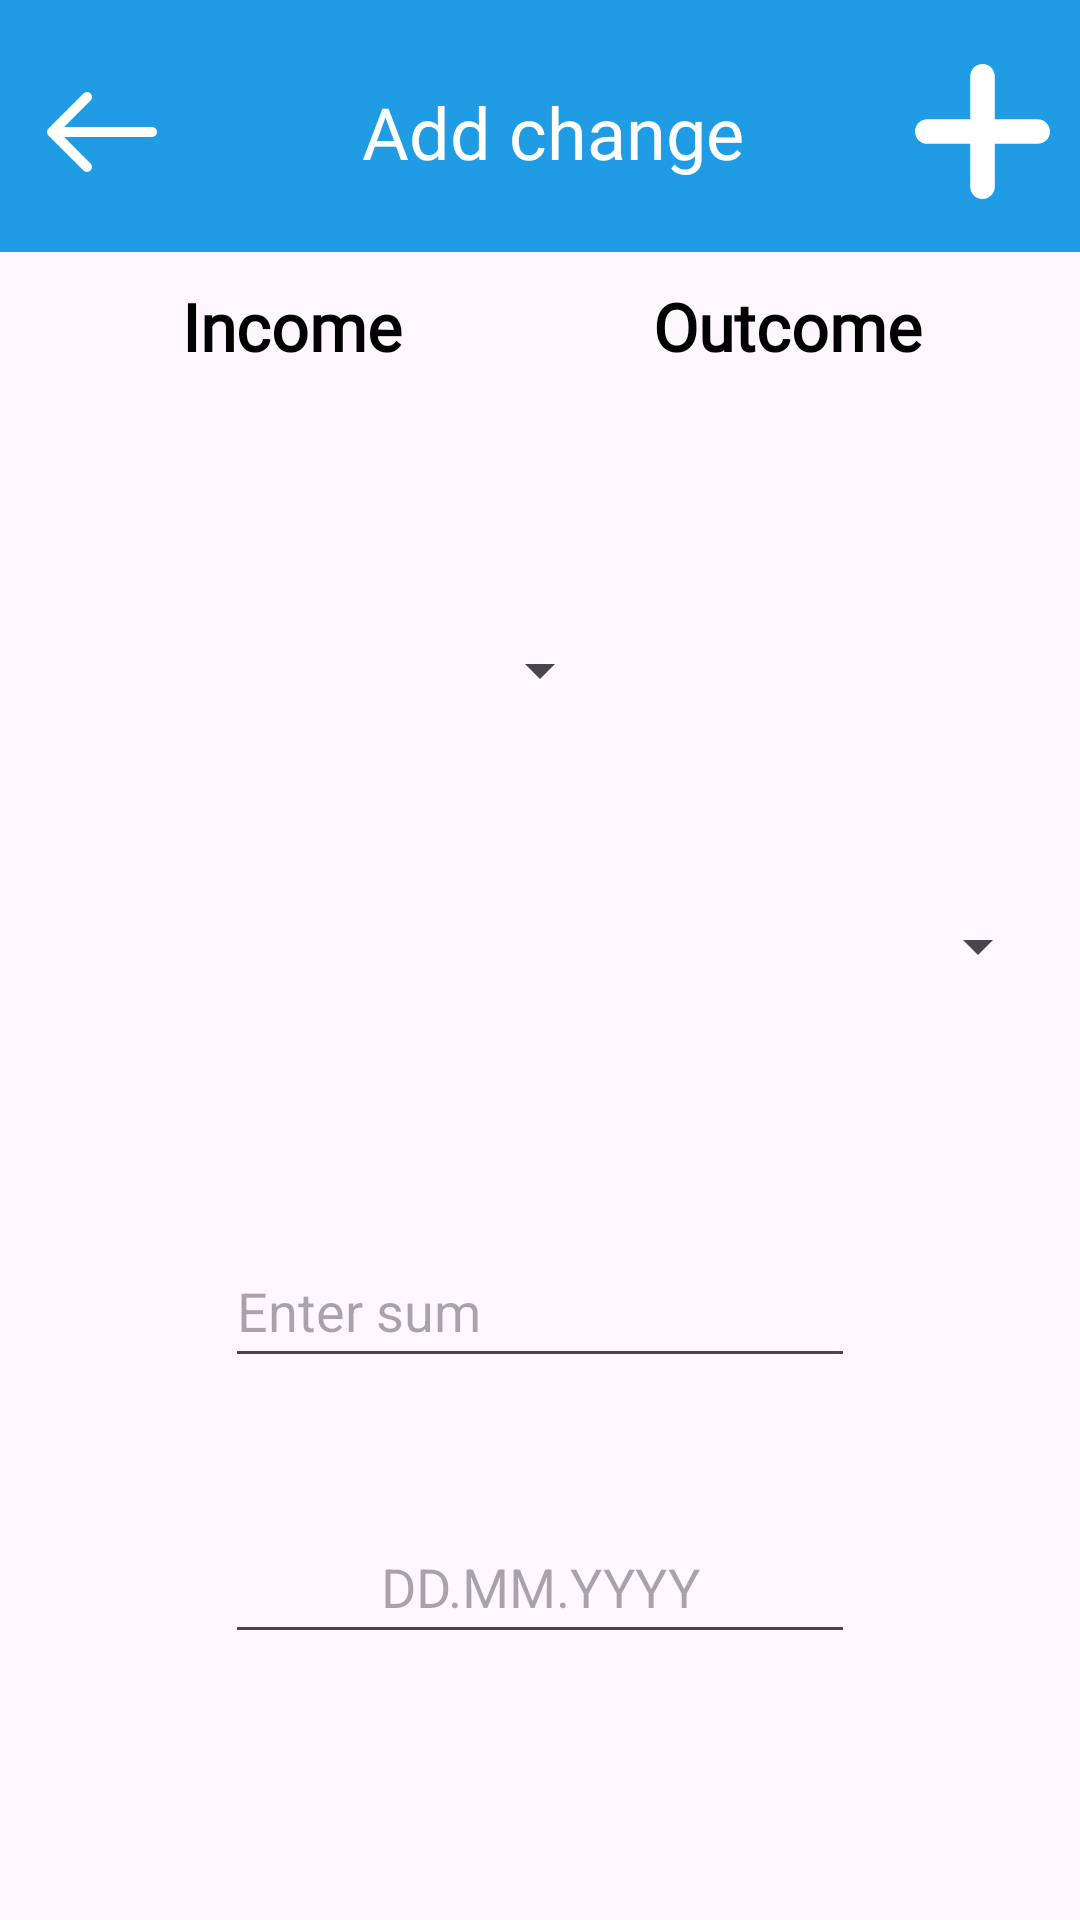

Icons on this 1080x1920 Android screen, each with its box as (x1, y1, x2, y2):
back: (47, 92, 157, 172)
plus: (915, 64, 1050, 199)
